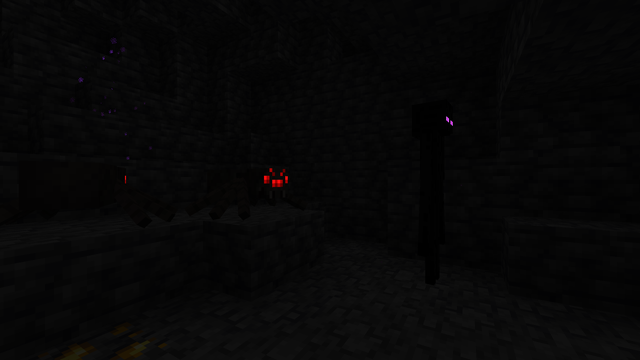araignees: (6, 152, 171, 241), (192, 161, 302, 221)
endermens: (409, 91, 453, 290)
